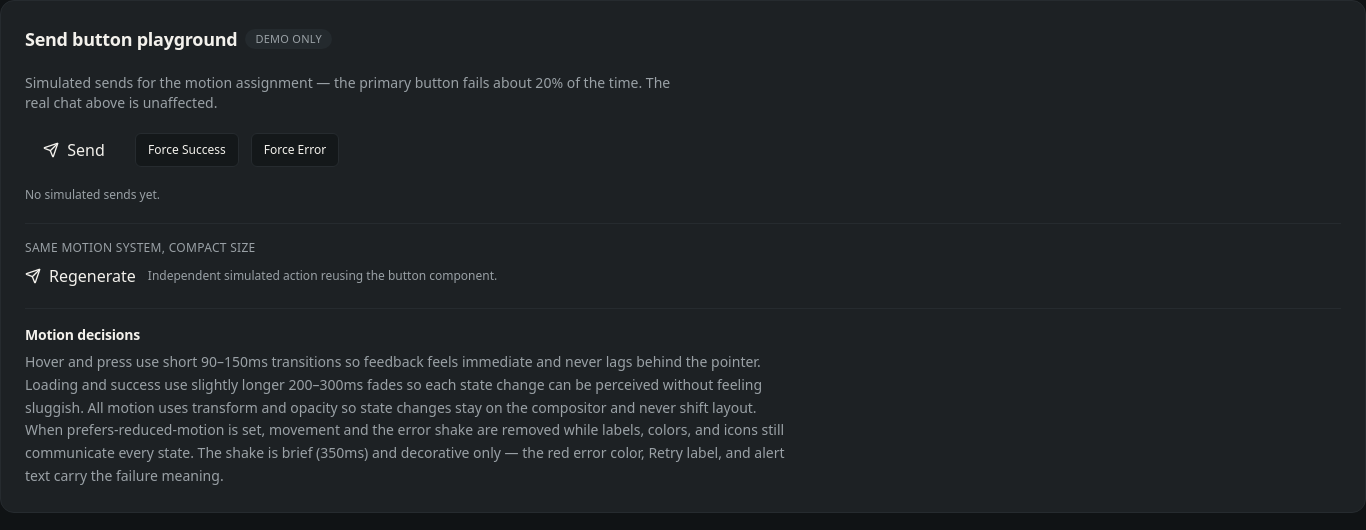
Test: SendButtonDemo › takes the random path's success branch
The width and height of the screenshot is (1366, 530).
Click the button with aria-label "Run a simulated send" at [74, 150], box [25,138,123,162]
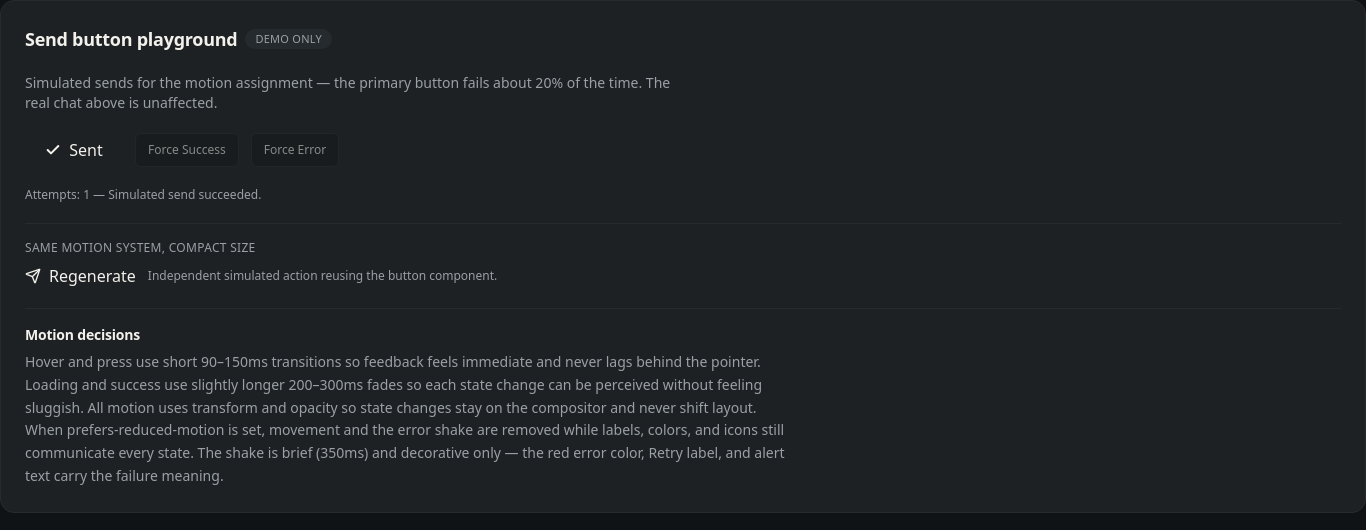
Expected: the button with aria-label "Simulated send succeeded" is shown, [25,138,123,162]
Expected: the text "Attempts: 1 — Simulated send succeeded." is shown, [25,186,261,203]
